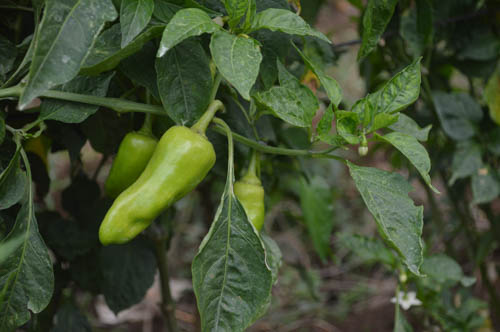ChiliPepper: (97, 125, 214, 249), (108, 132, 159, 200), (226, 181, 265, 252)
